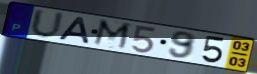5: (130, 24, 159, 54), (201, 35, 226, 64)
9: (166, 30, 199, 60)
A: (57, 16, 92, 46)
M: (90, 18, 133, 53)
U: (29, 7, 66, 40)
